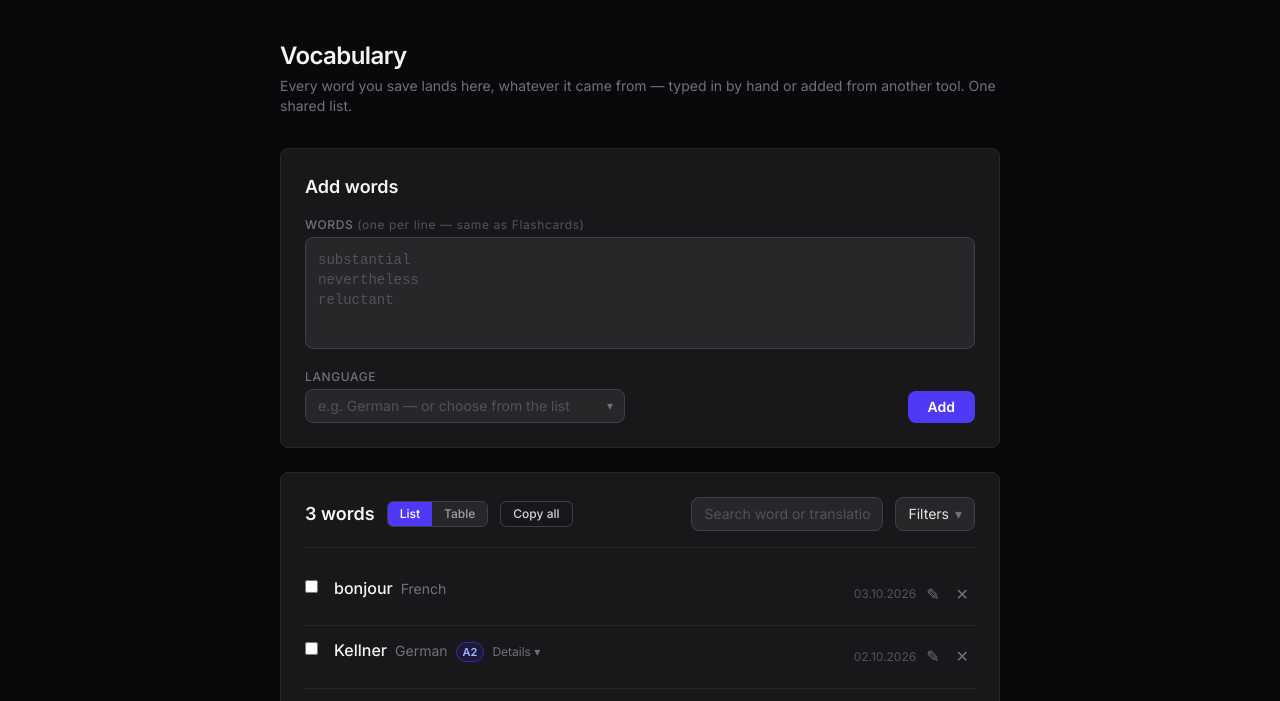
Scenario: deleting several words at once › changes nothing on Cancel
Step 1. Click the checkbox titled "Select" next to "bonjour" → (312, 586), box [305,580,318,593]
(page scrolled)
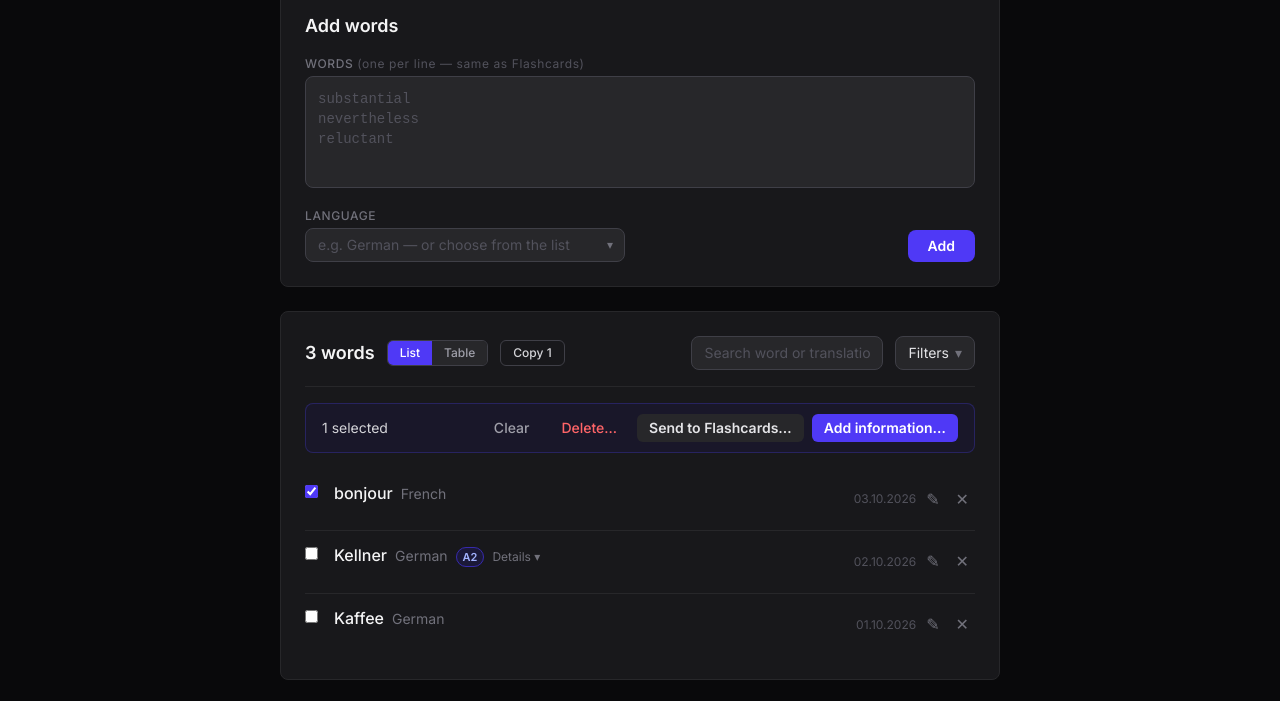
Step 2. Click the checkbox titled "Select" next to "Kellner" → (312, 554), box [305,547,318,560]
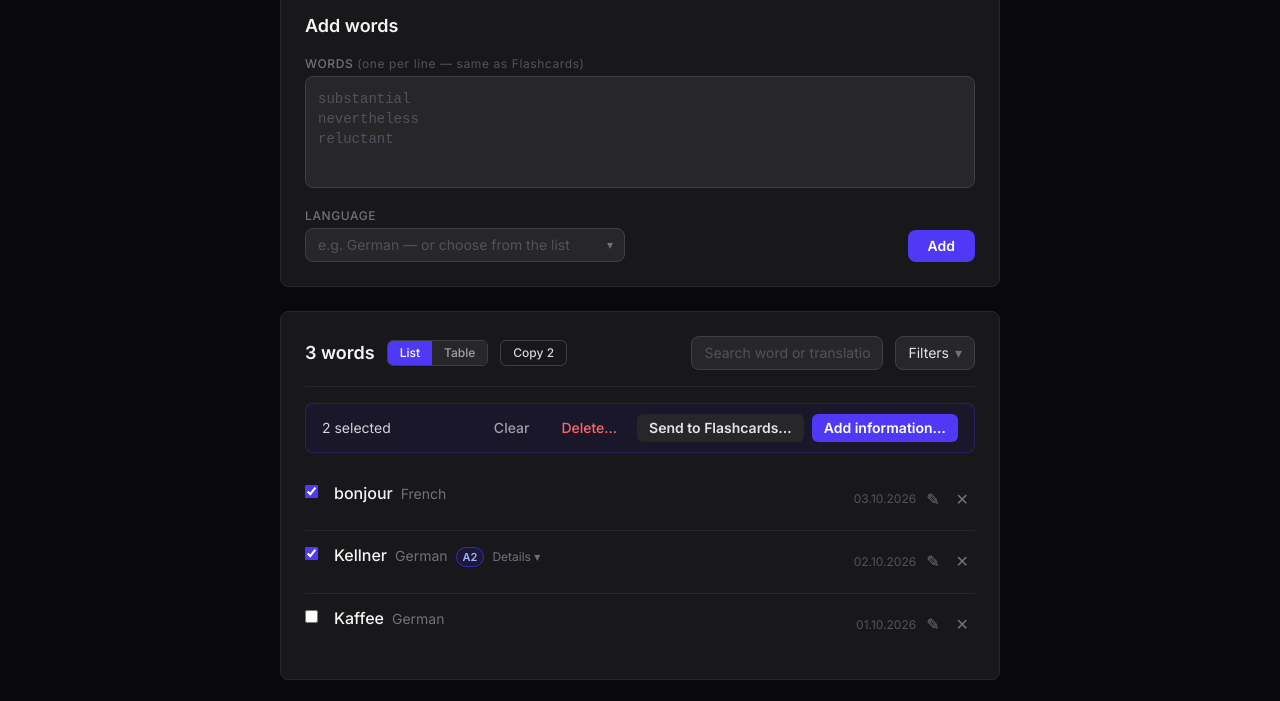
Step 3. Click the button "Delete…" → (589, 428), box [549,414,629,442]
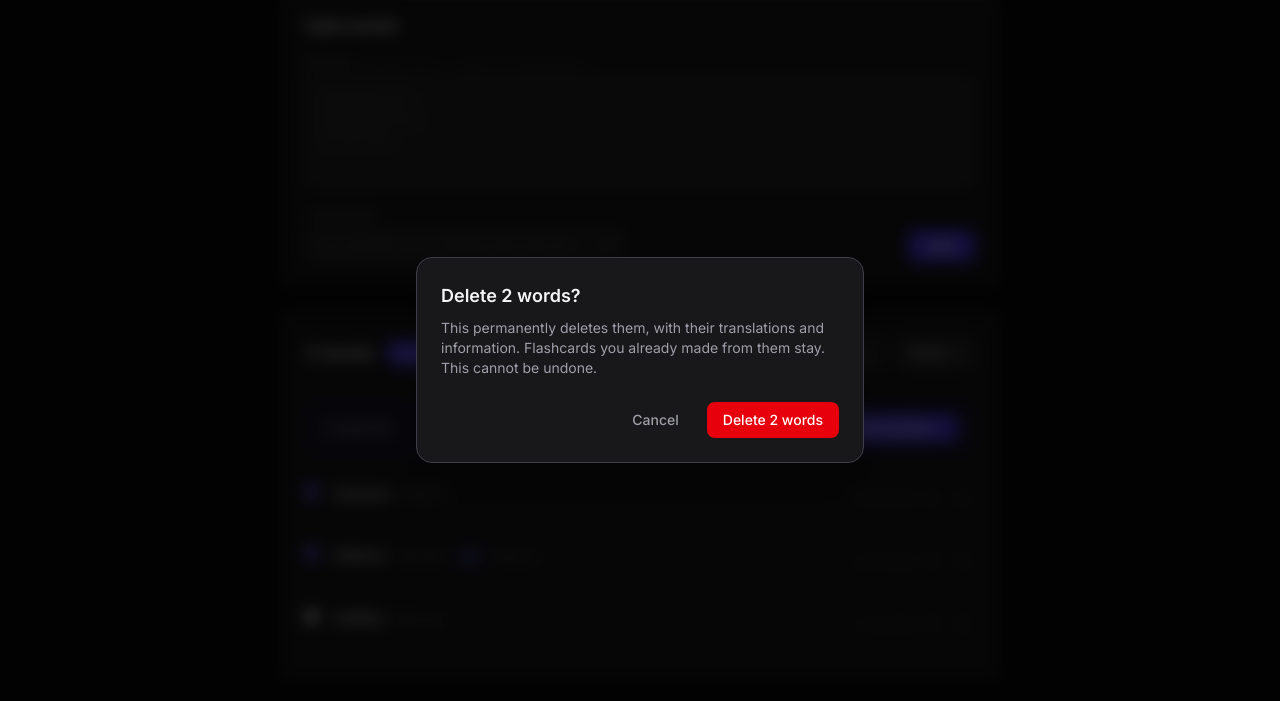
Step 4. Click the button "Cancel" → (656, 420), box [616,402,695,438]
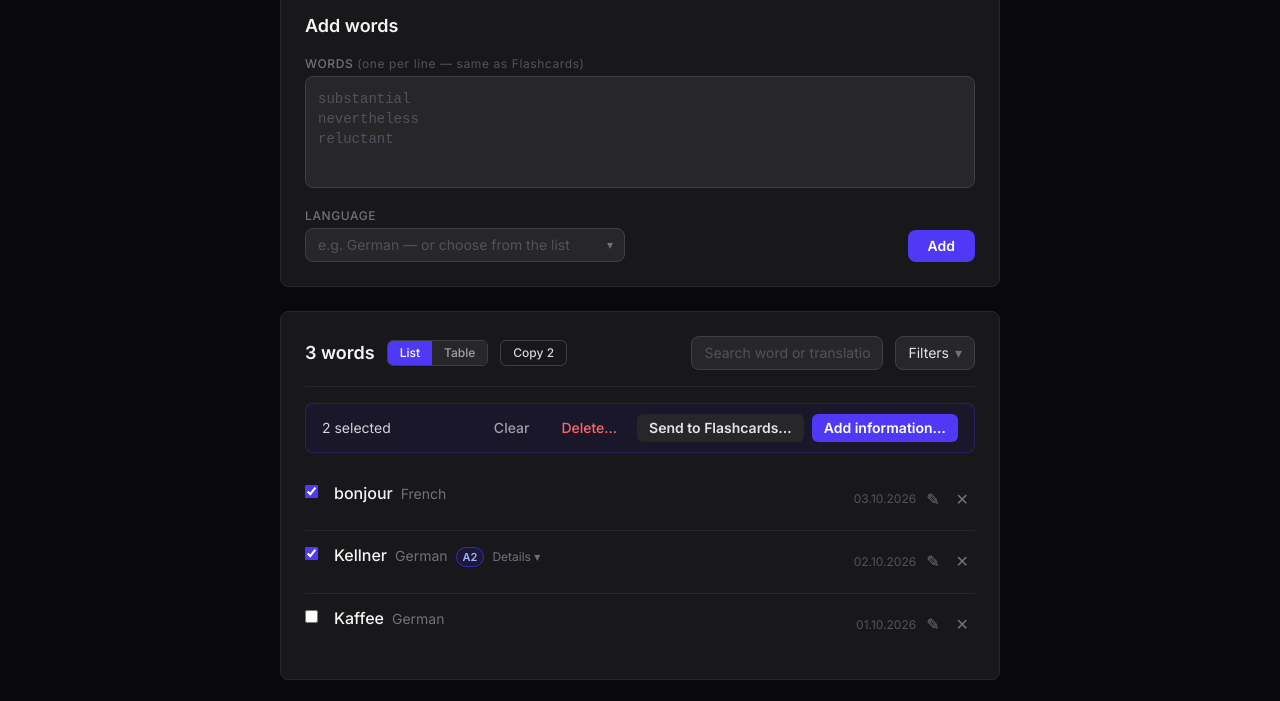
Expected: the text "2 selected" is shown, [322,418,391,438]
Expected: the dialog is gone
